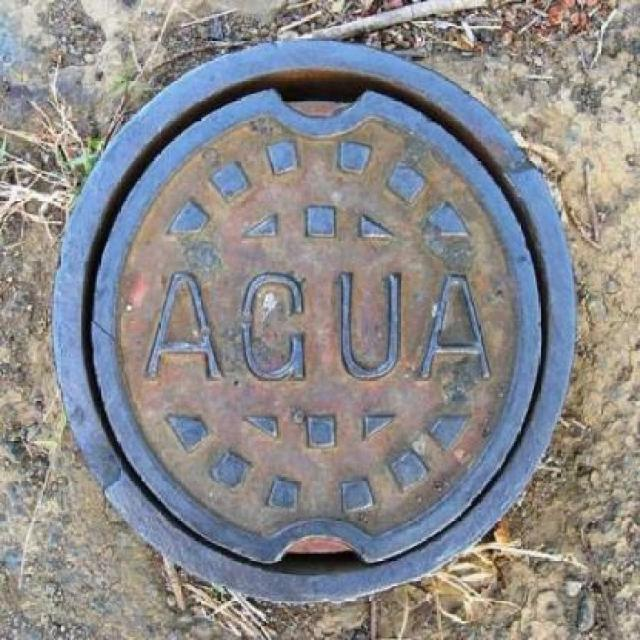Manhole: (51, 32, 612, 605)
